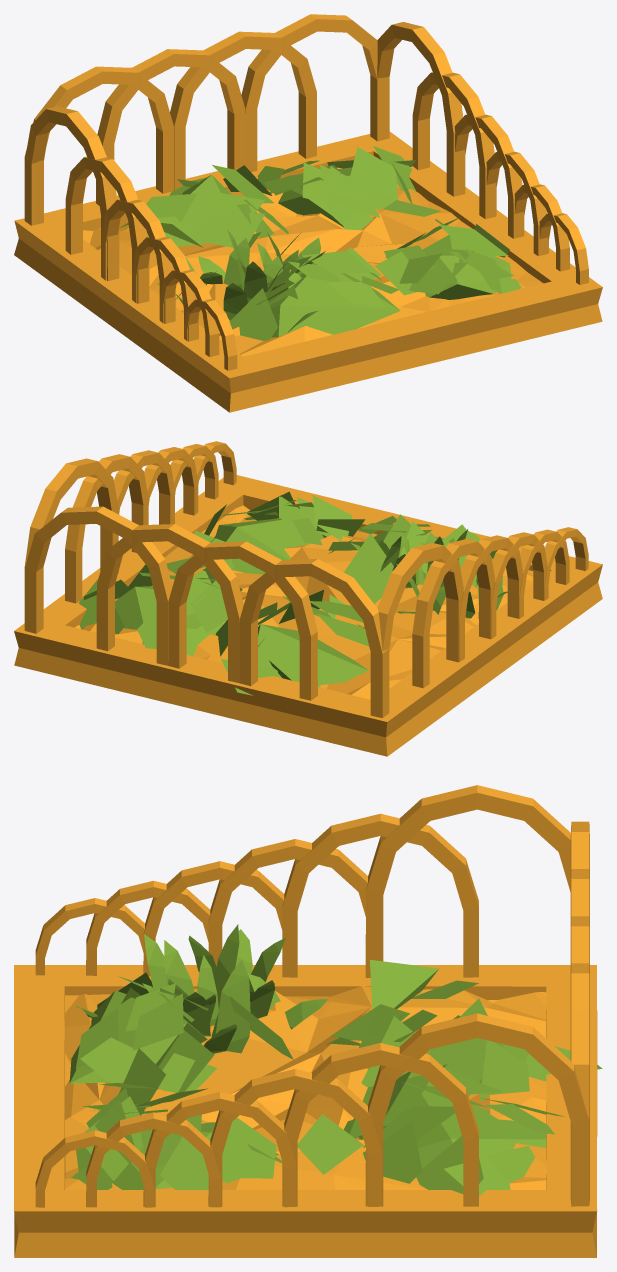
File: SM_Tree_Pot_City_C_1m_Foliage.fbx
3 views of the same model, one above another, from view 1: azimuth 30°, elevation 25°; view 2: azimuth 150°, elevation 25°; view 3: azimuth 270°, elevation 25° (orthographic). The views are drawn at different scales.
Parts seen in each view (by area): view 1: SM_Tree_Pot_City_C_1m_Foliage; view 2: SM_Tree_Pot_City_C_1m_Foliage; view 3: SM_Tree_Pot_City_C_1m_Foliage.
Boxes of the visible parts, x1,y1,x2,y2 form: SM_Tree_Pot_City_C_1m_Foliage: [14, 14, 602, 412]; SM_Tree_Pot_City_C_1m_Foliage: [14, 441, 602, 756]; SM_Tree_Pot_City_C_1m_Foliage: [14, 785, 602, 1257].
Size of the model in its own units: 1.09 by 0.521 by 1.1.
